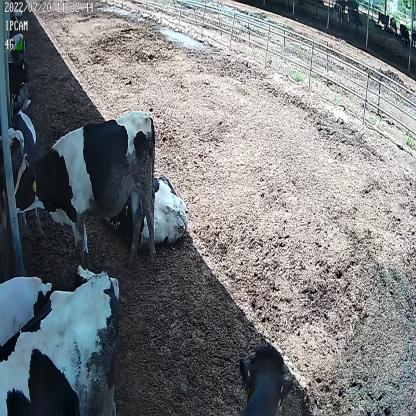cow: (12, 110, 159, 269)
